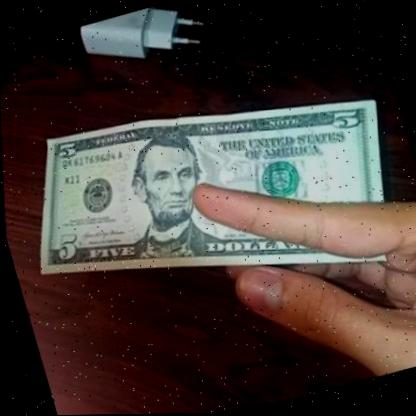dollar_front: (1, 44, 416, 340)
